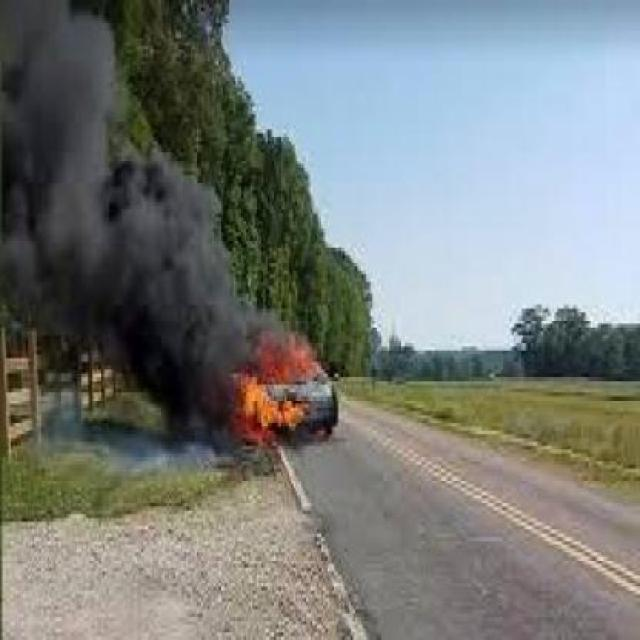Fire: (220, 324, 334, 446)
Smoke: (2, 0, 242, 371)
